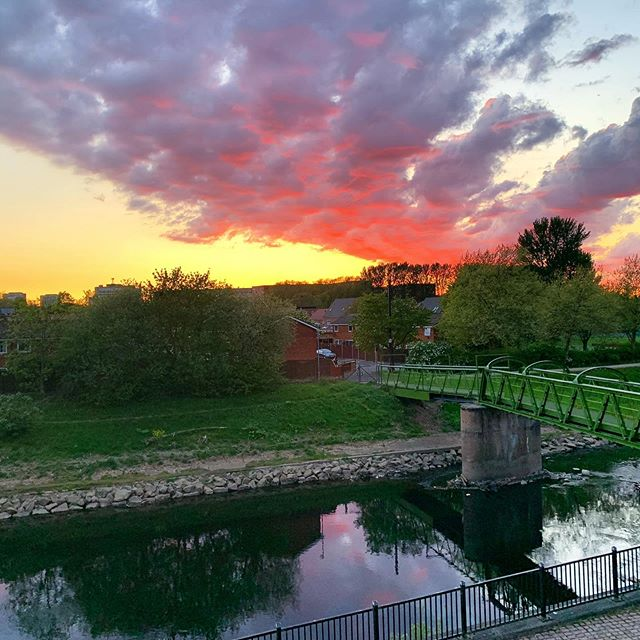bridge: (366, 363, 640, 509)
building: (321, 290, 383, 359), (399, 292, 467, 352)
grass: (34, 372, 406, 457)
river: (1, 458, 638, 640)
sky: (14, 1, 640, 271)
